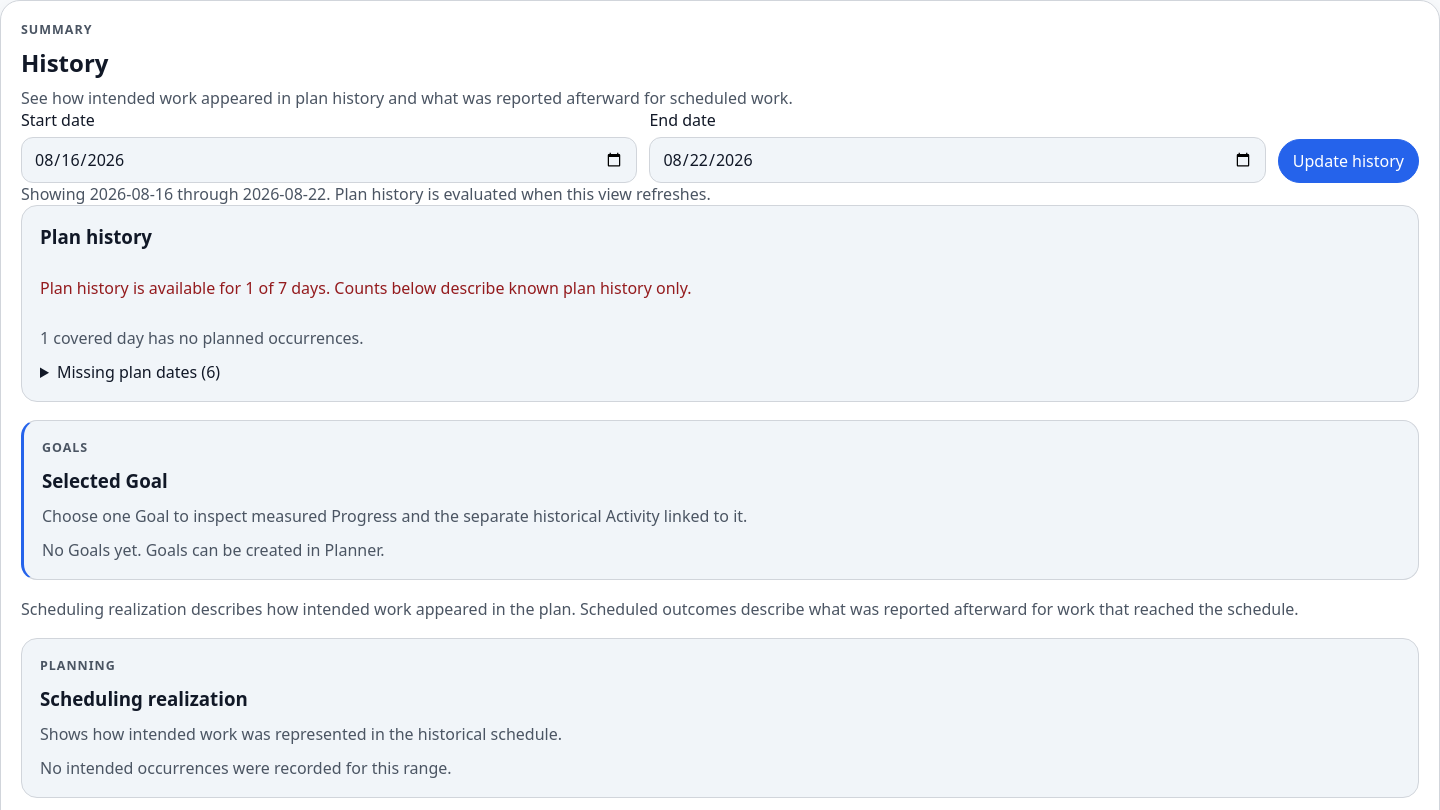
HistoricalIntelligenceSummary › distinguishes incomplete coverage, published-empty history, and zero eligibility
Check: the text "Counts below describe known plan history only" is shown, box left=287, top=277, right=692, bottom=299
Check: the text "1 covered day has no planned occurrences." is shown, box left=40, top=327, right=364, bottom=349
Click the heading "Missing plan dates (6)".
click(138, 372)  # box left=57, top=361, right=220, bottom=383
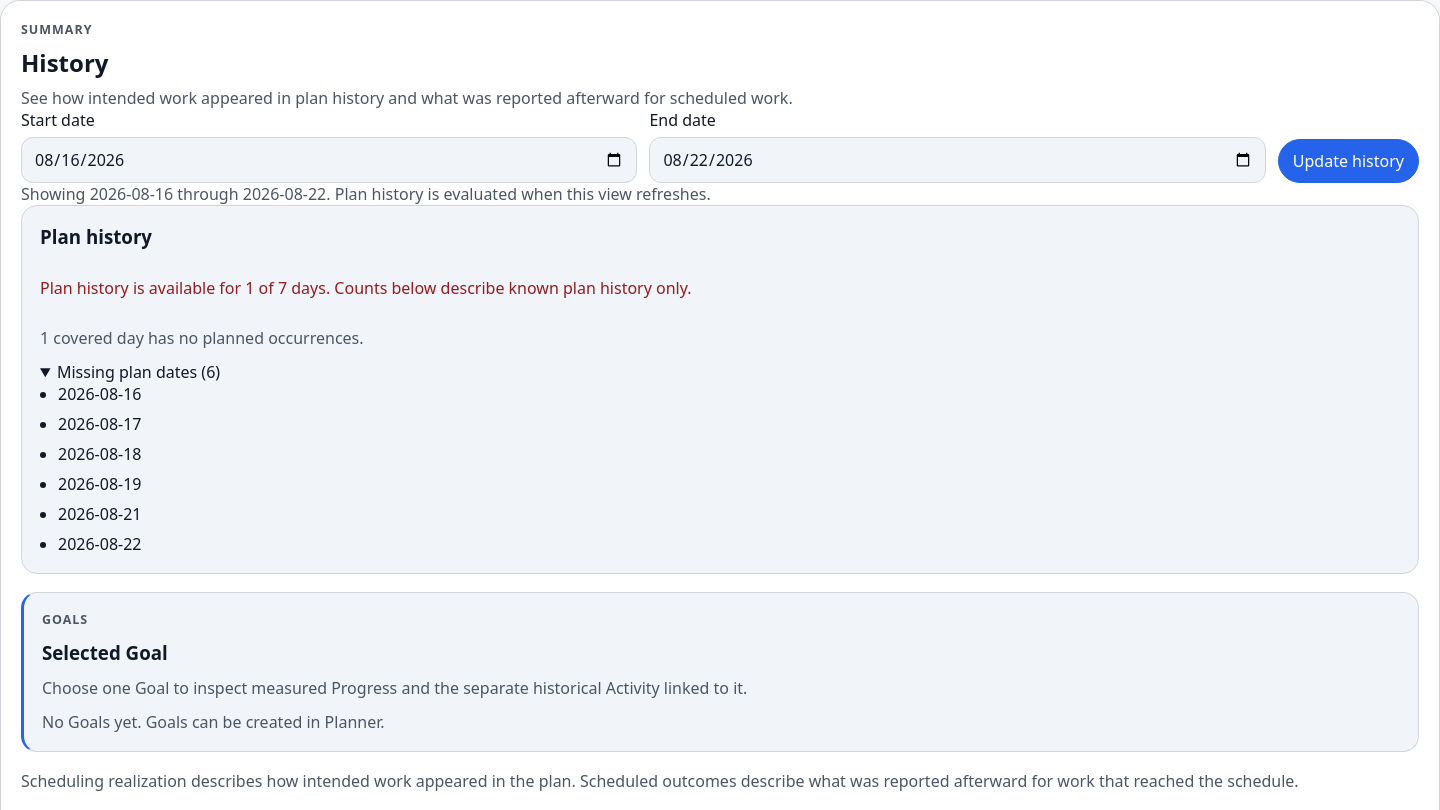
Check: the list item "2026-08-21" is shown, box left=58, top=503, right=142, bottom=525
